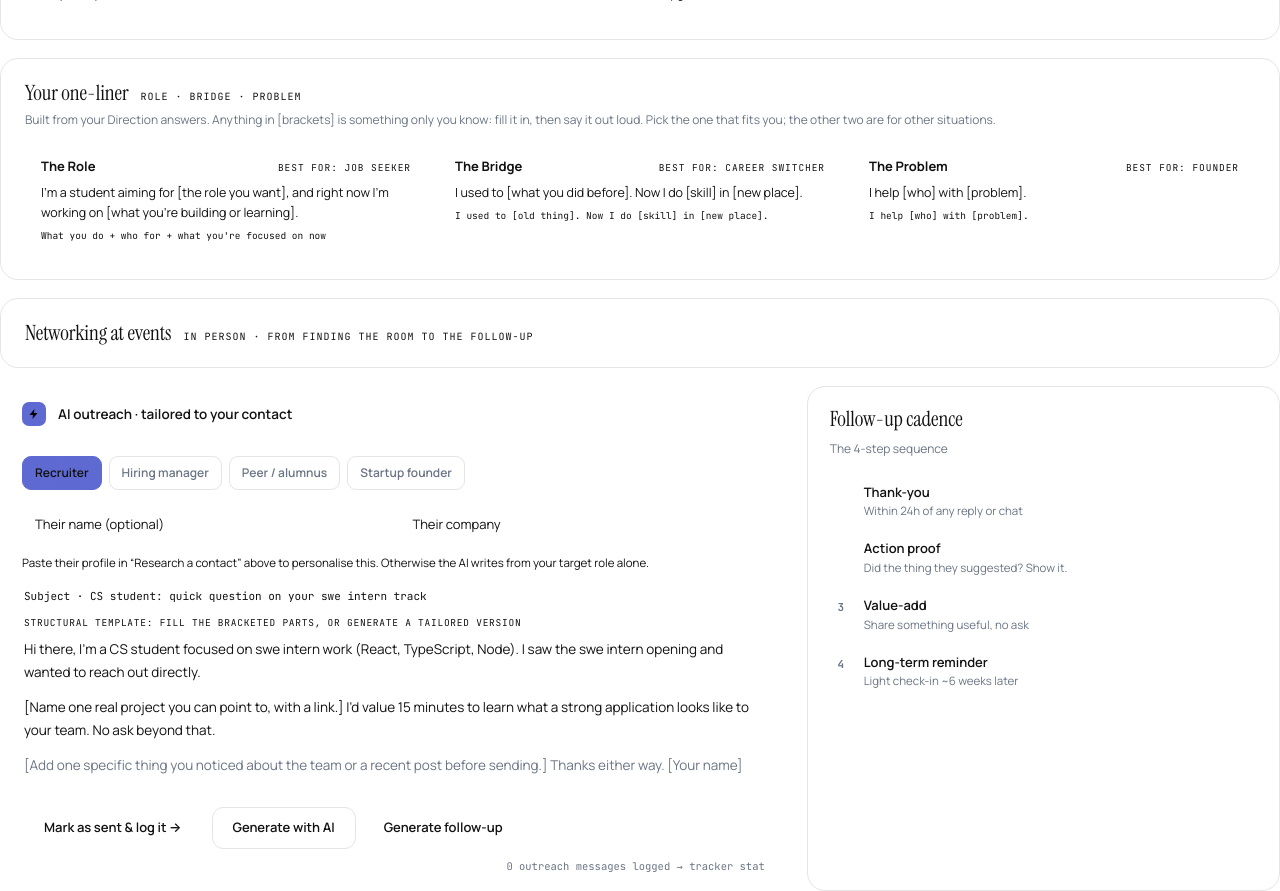
Test case: NetworkingPage — failure copy matches what is shown › shows an error on a 200 with an empty message instead of doing nothing
The image size is (1280, 891).
(page scrolled)
Click the button "Generate with AI" at (284, 828), box 212,807 -> 356,849
(page scrolled)
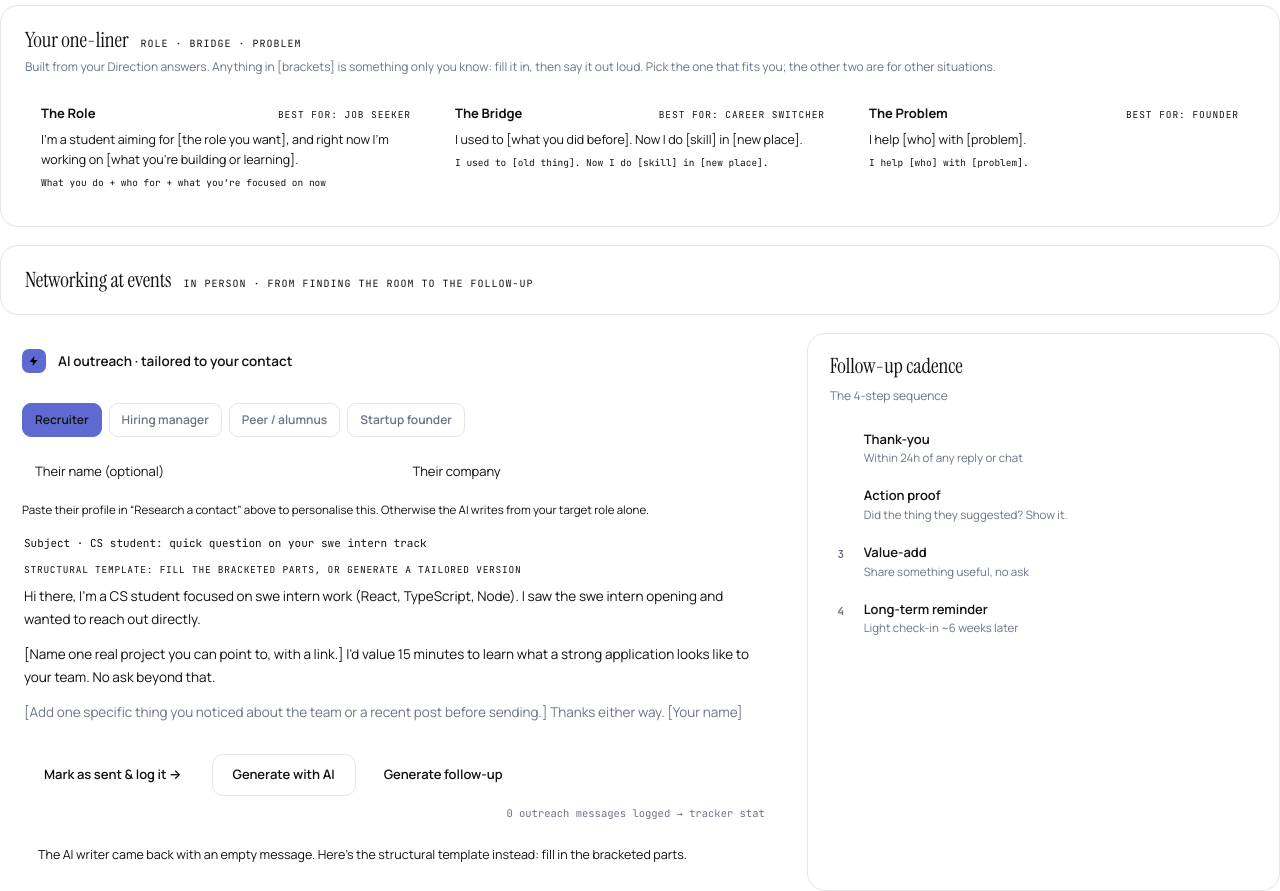
Expected: the message shows "empty message", 38,846 -> 687,863
